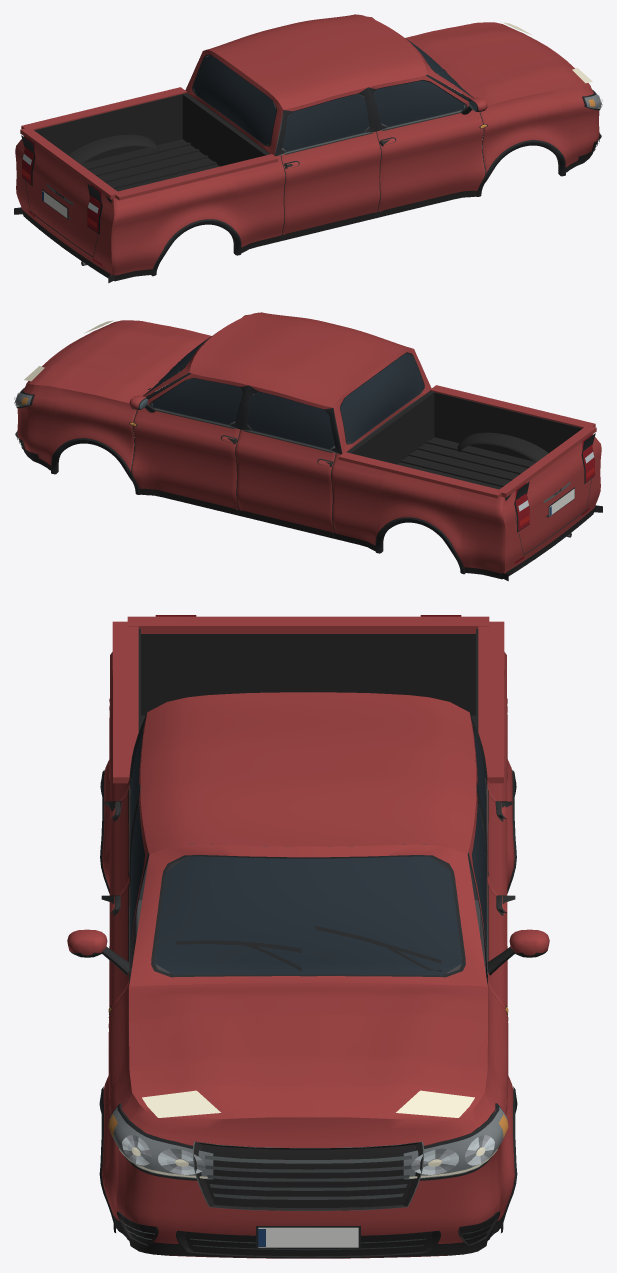
The model's file is pickup-street.glb.
3 views of the same model, one above another, from view 1: azimuth 30°, elevation 25°; view 2: azimuth 150°, elevation 25°; view 3: azimuth 270°, elevation 25° (orthographic). The views are drawn at different scales.
Visible parts, largest first — view 1: pickup, pickup_door2, pickup_door4, pickup_street_trim; view 2: pickup, pickup_door1, pickup_door3, pickup_street_trim; view 3: pickup, pickup_street_trim, pickup_door1, pickup_door2, pickup_door4, pickup_door3.
Part boxes in pixels (box(x1,y1,x2,y2)): pickup: box(15, 14, 599, 281); pickup_door2: box(368, 75, 487, 211); pickup_door4: box(274, 87, 381, 234); pickup_street_trim: box(14, 69, 602, 283); pickup: box(17, 312, 601, 579); pickup_door1: box(129, 373, 248, 509); pickup_door3: box(235, 385, 342, 532); pickup_street_trim: box(14, 359, 602, 581); pickup: box(99, 616, 517, 1258); pickup_street_trim: box(108, 615, 508, 1258); pickup_door1: box(468, 787, 549, 1008); pickup_door2: box(67, 787, 148, 1008); pickup_door4: box(104, 713, 146, 911); pickup_door3: box(470, 713, 512, 911).
Size of the model in its own units: 6 by 1.58 by 2.45.
